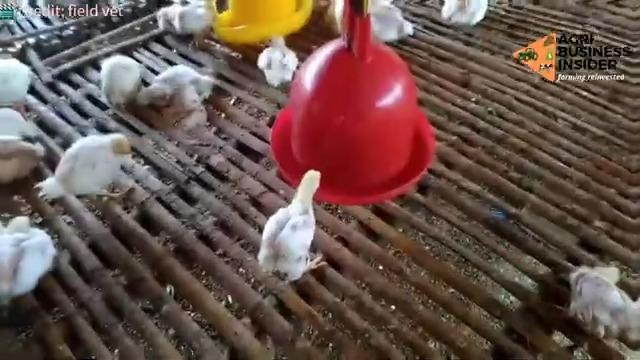Normal: (259, 168, 323, 280)
